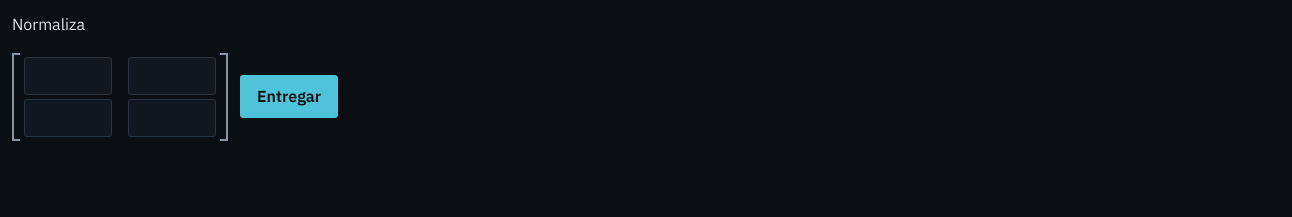
Test: vector con shape (respuesta en forma de matriz) › con una celda vacía muestra el aviso y no entrega
Type "1" into the field named "Fila 1, columna 1" at (68, 76), box [24,57,112,95]
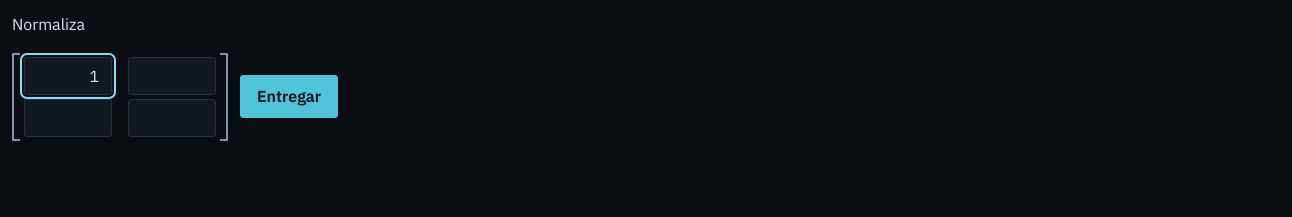
Click the button "Entregar" at (289, 97), box [240,75,338,118]
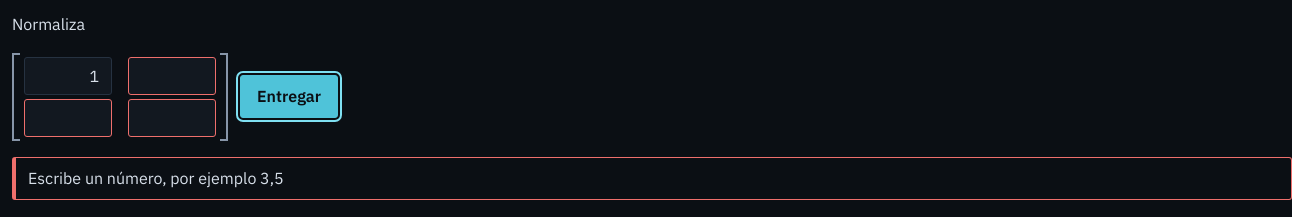
Expected: the text "Escribe un número, por ejemplo 3,5" is shown, [12,157,1291,200]
